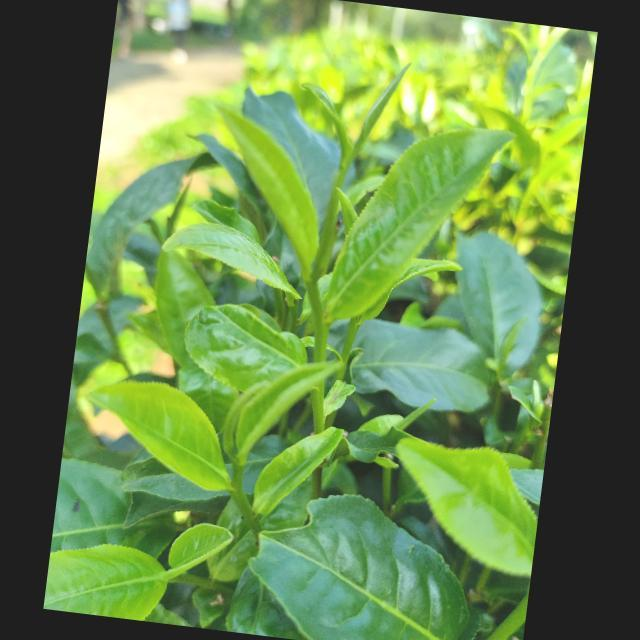Stem: (306, 281, 324, 318), (344, 321, 362, 348), (330, 172, 346, 201), (234, 494, 253, 517)
